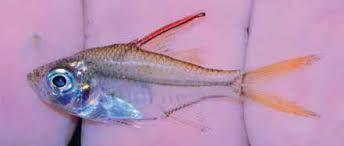Glass Perchlet: (28, 10, 324, 139)
